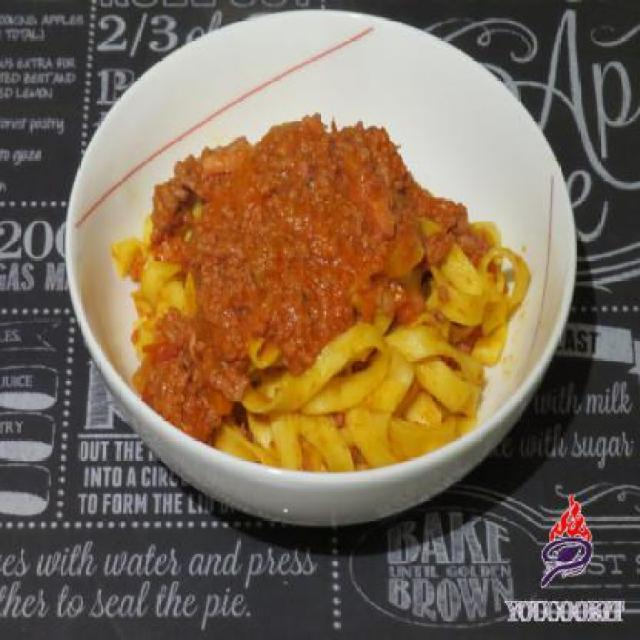Pasta al ragu: (88, 96, 534, 490)
